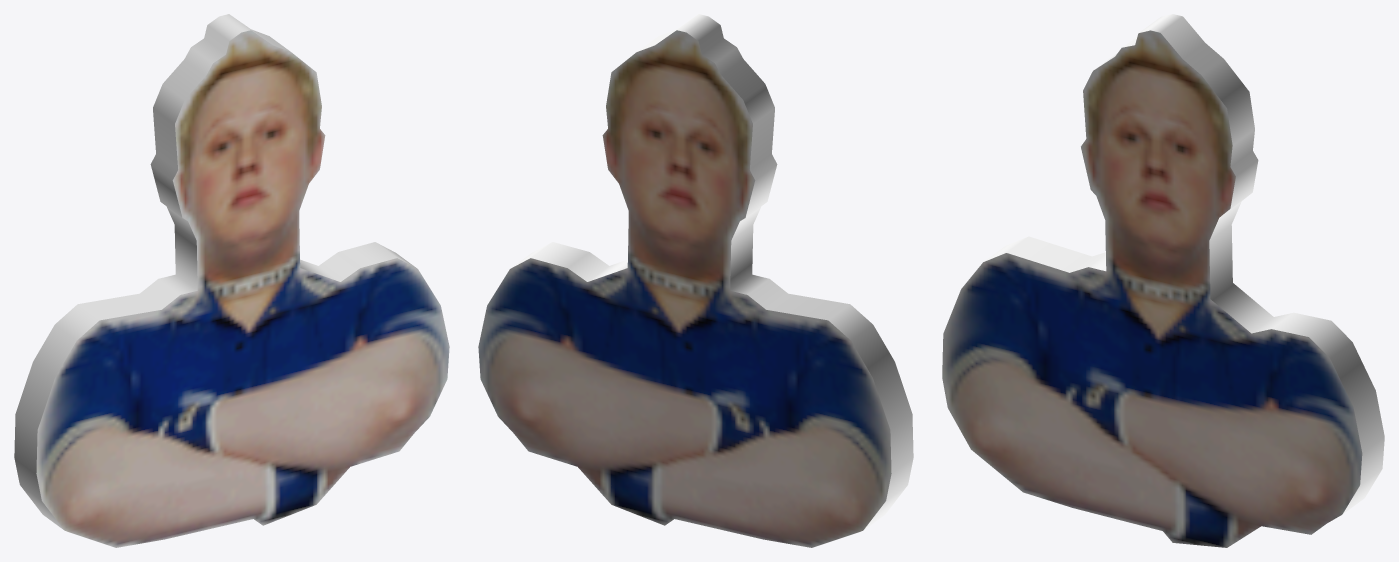
The model's file is del.ico.obj.
3 views of the same model, side by side, from view 1: azimuth 30°, elevation 25°; view 2: azimuth 150°, elevation 25°; view 3: azimuth 330°, elevation 25° (orthographic).
Bounding box in the file's own units: 4.29 × 4.94 × 0.397.
1 material, 1 textured.
